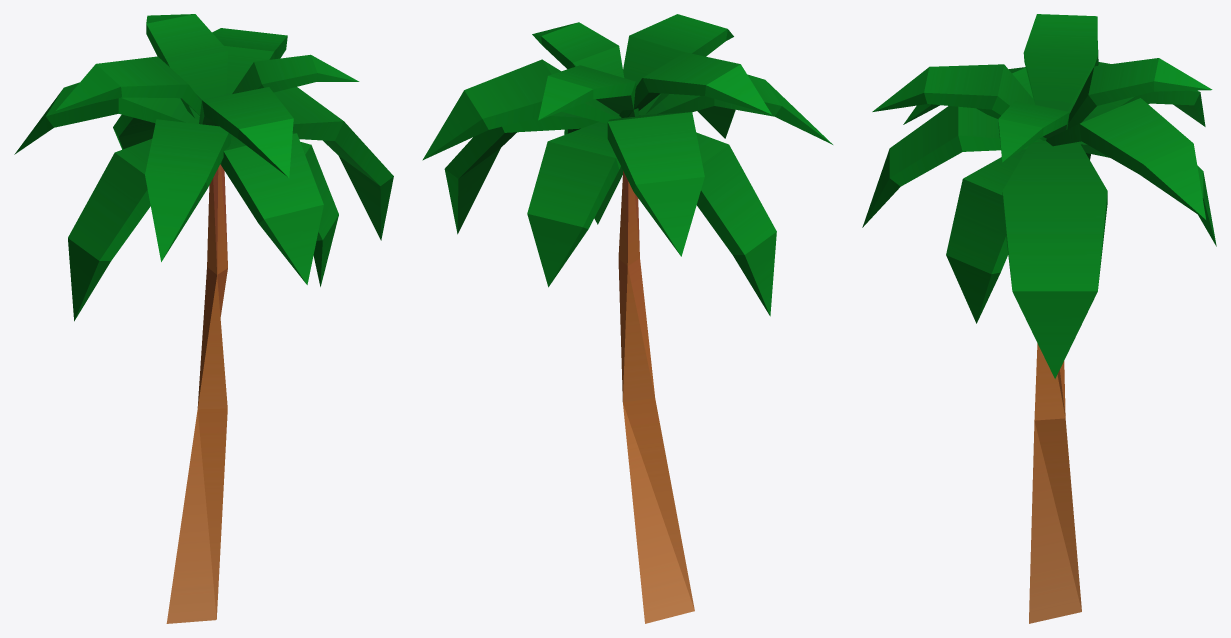
Rendered from GL-Palmtree-03-LOD3.fbx.
The picture shows the model from 3 angles, left to right: view 1: azimuth 30°, elevation 25°; view 2: azimuth 150°, elevation 25°; view 3: azimuth 270°, elevation 25°; orthographic projection. The views are drawn at different scales.
Visible parts, largest first — view 1: GL_Palmtree_03; view 2: GL_Palmtree_03; view 3: GL_Palmtree_03.
Part boxes in pixels (x1=…): GL_Palmtree_03: x1=14, y1=14, x2=393, y2=623; GL_Palmtree_03: x1=422, y1=14, x2=832, y2=623; GL_Palmtree_03: x1=862, y1=14, x2=1216, y2=623.
Size of the model in its own units: 3.29 by 5.47 by 3.12.
